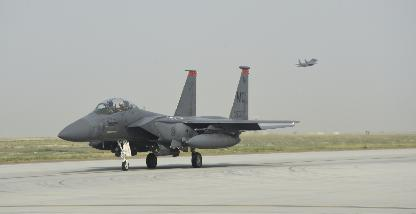F117: (57, 65, 299, 168), (293, 57, 317, 66)
